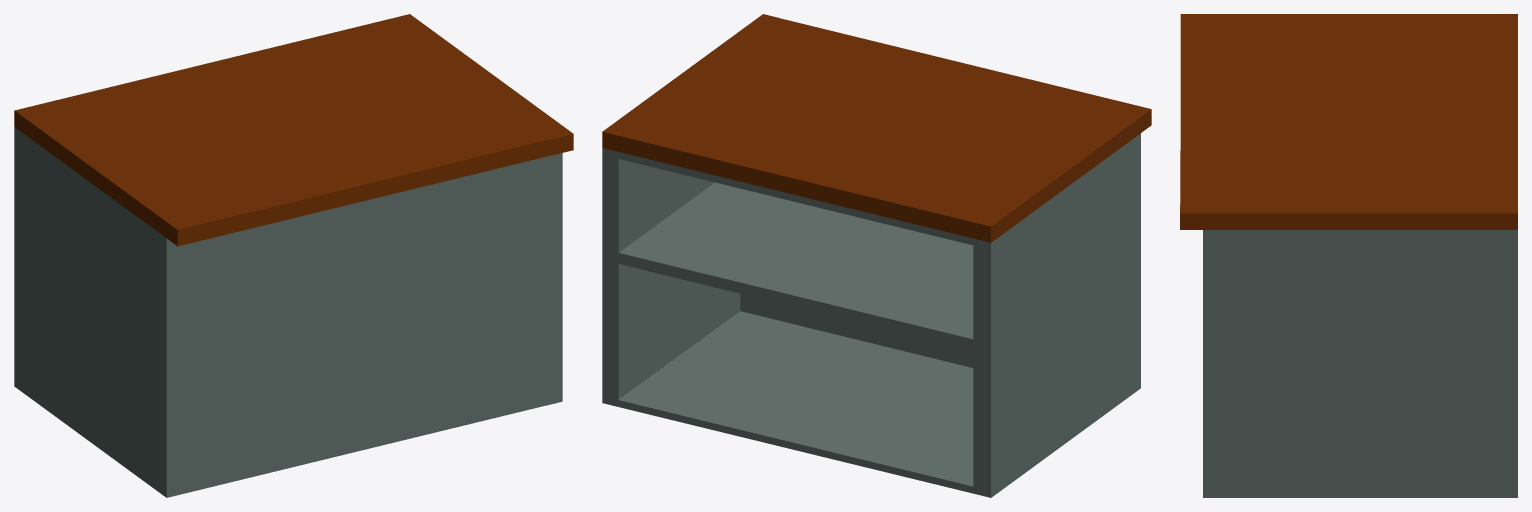
The model's file is SM_Counter_02.glb.
3 views of the same model, side by side, from view 1: azimuth 30°, elevation 25°; view 2: azimuth 150°, elevation 25°; view 3: azimuth 270°, elevation 25° (orthographic). The views are drawn at different scales.
Parts seen in each view (by area): view 1: SM_Counter_02; view 2: SM_Counter_02; view 3: SM_Counter_02.
Part boxes in pixels (x1,y1,x2,y2): SM_Counter_02: (14,14,573,497); SM_Counter_02: (602,14,1151,497); SM_Counter_02: (1180,14,1517,497).
Size of the model in its own units: 1.5 by 1 by 1.08.
2 materials, 1 textured.
